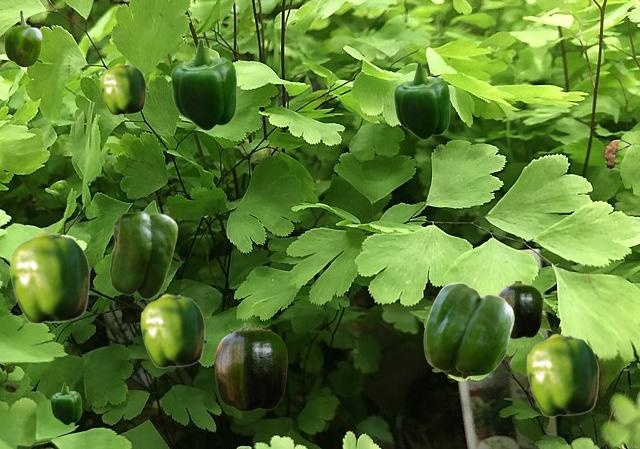bell_pepper: (423, 282, 513, 378), (9, 231, 89, 323), (214, 323, 286, 410), (170, 38, 236, 130), (526, 333, 598, 416), (109, 211, 177, 298), (140, 293, 204, 367), (393, 61, 449, 139), (498, 281, 541, 337), (100, 63, 145, 114), (4, 10, 41, 66), (50, 382, 80, 424)
